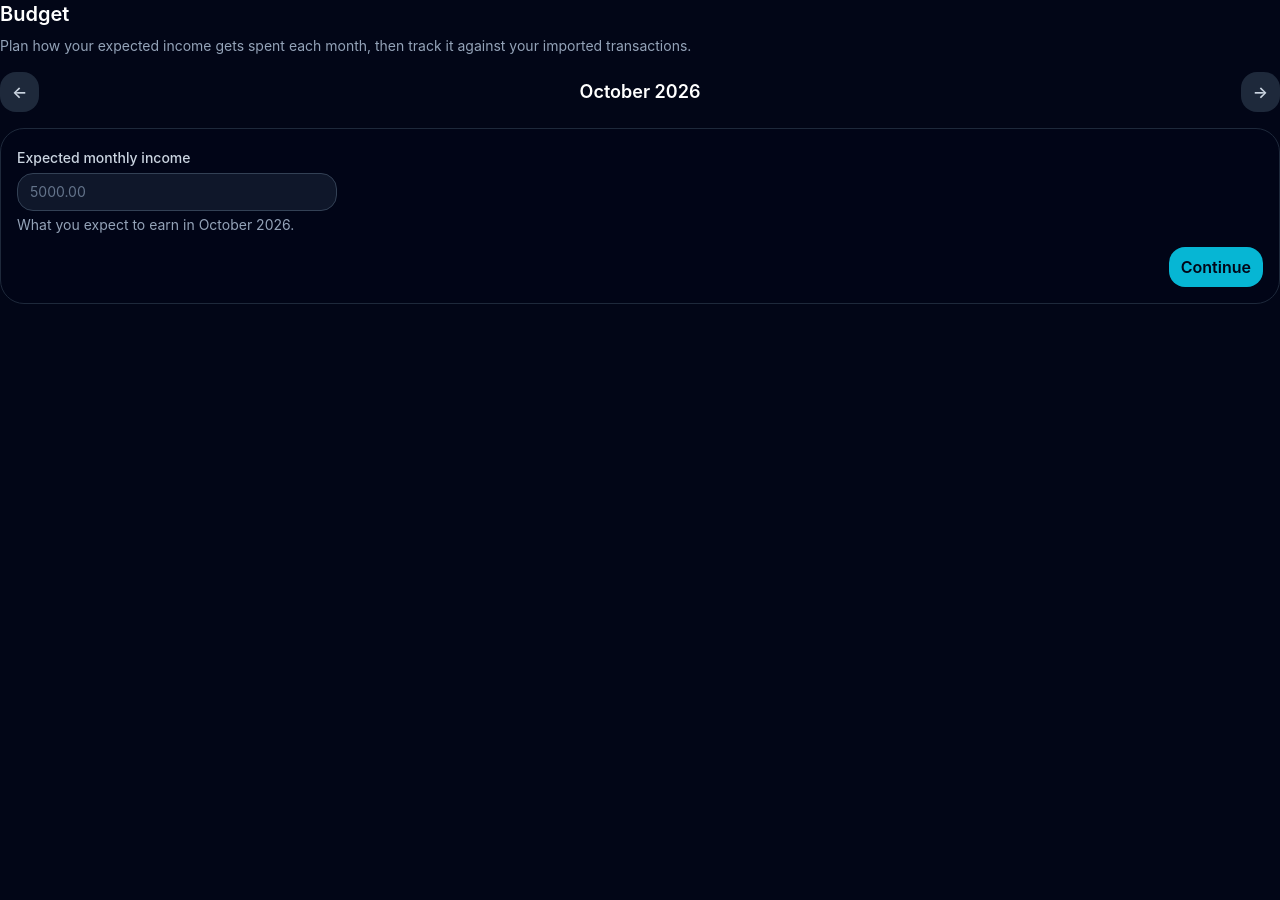
Scenario: BudgetTab › blocks saving an invalid typed amount
In the field labelled "Expected monthly income": x=177, y=192 top-left (17, 173), bottom-right (337, 211), type "5000"
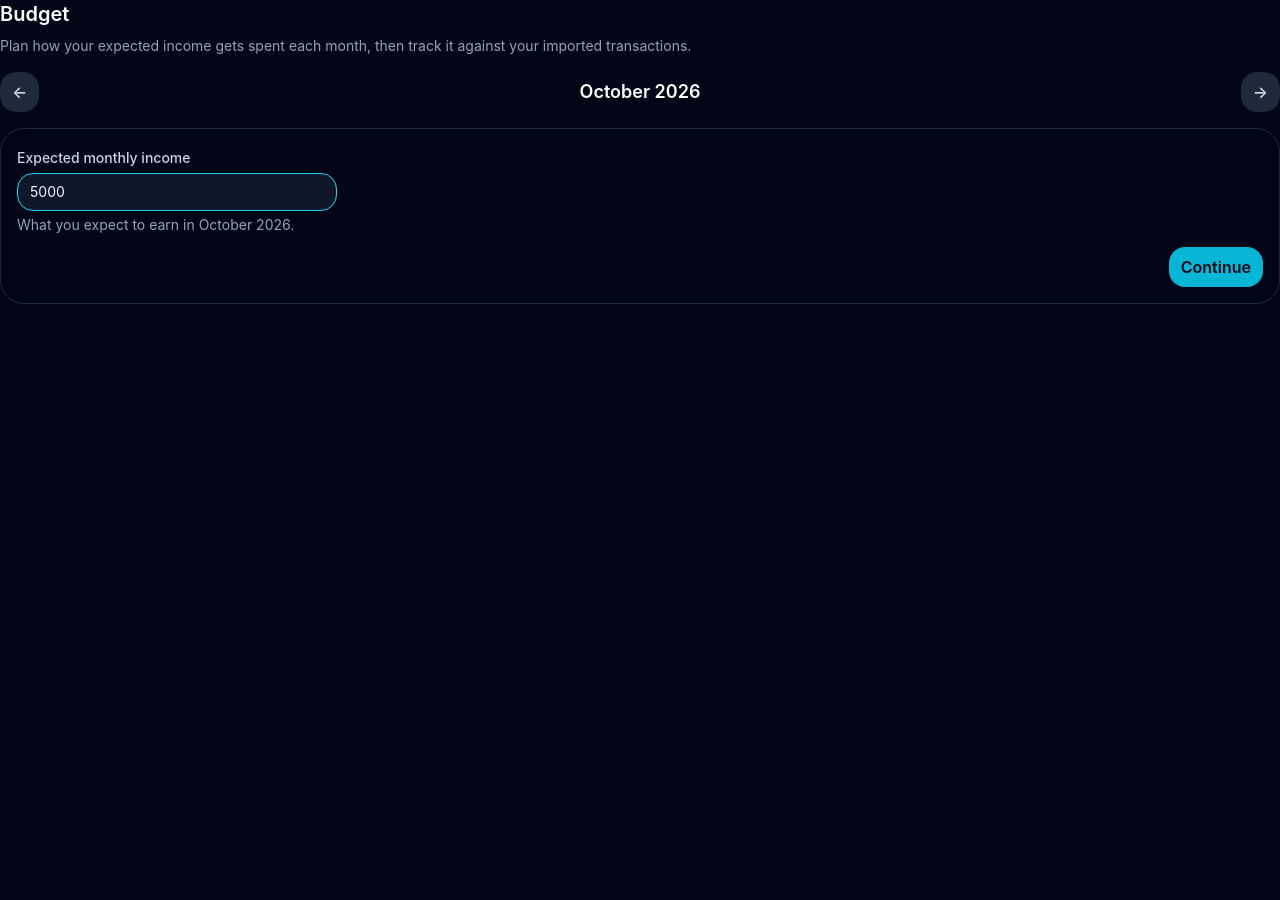
Click the button "Continue": x=1216, y=267 top-left (1169, 247), bottom-right (1263, 287)
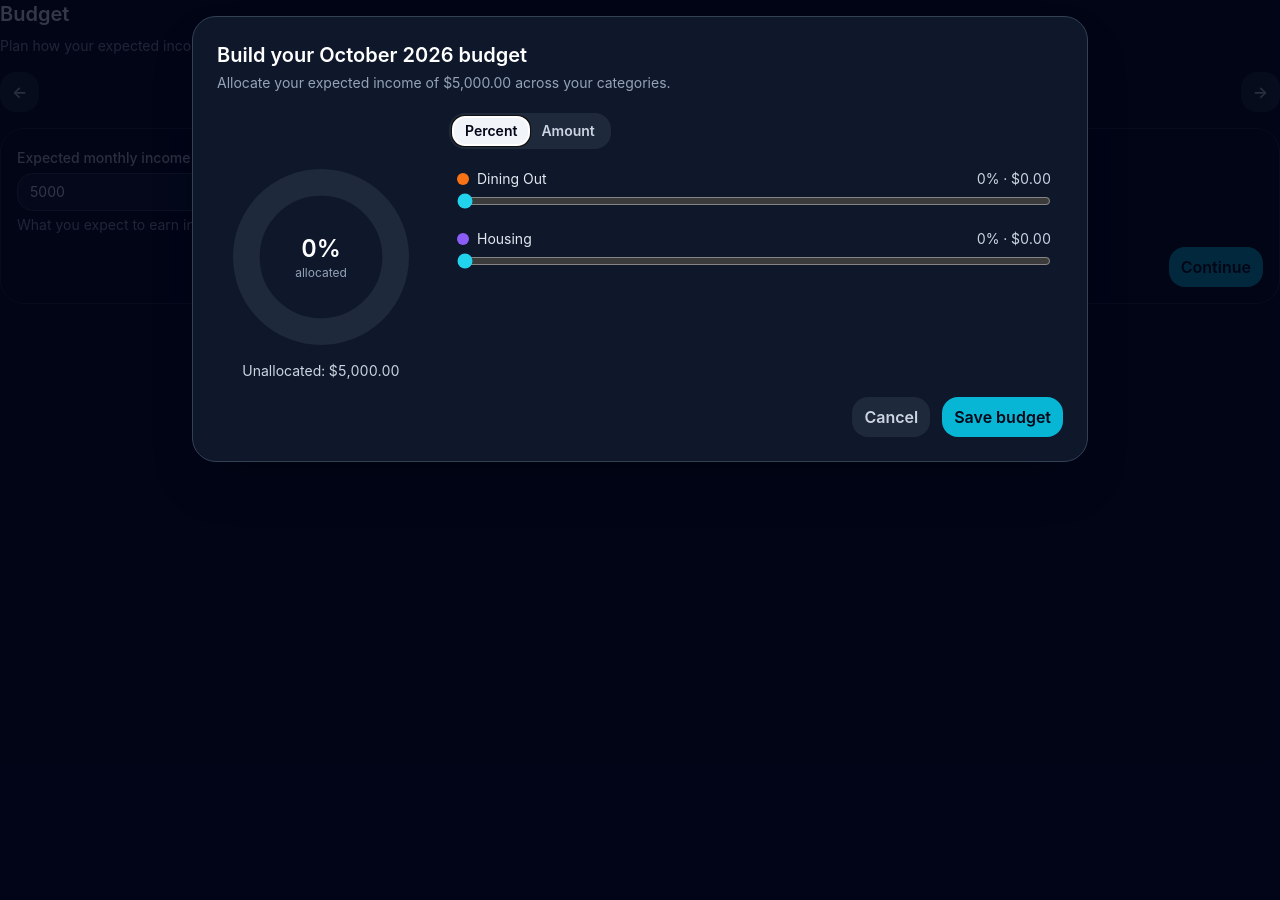
Click the button "Amount": x=568, y=131 top-left (529, 117), bottom-right (607, 145)
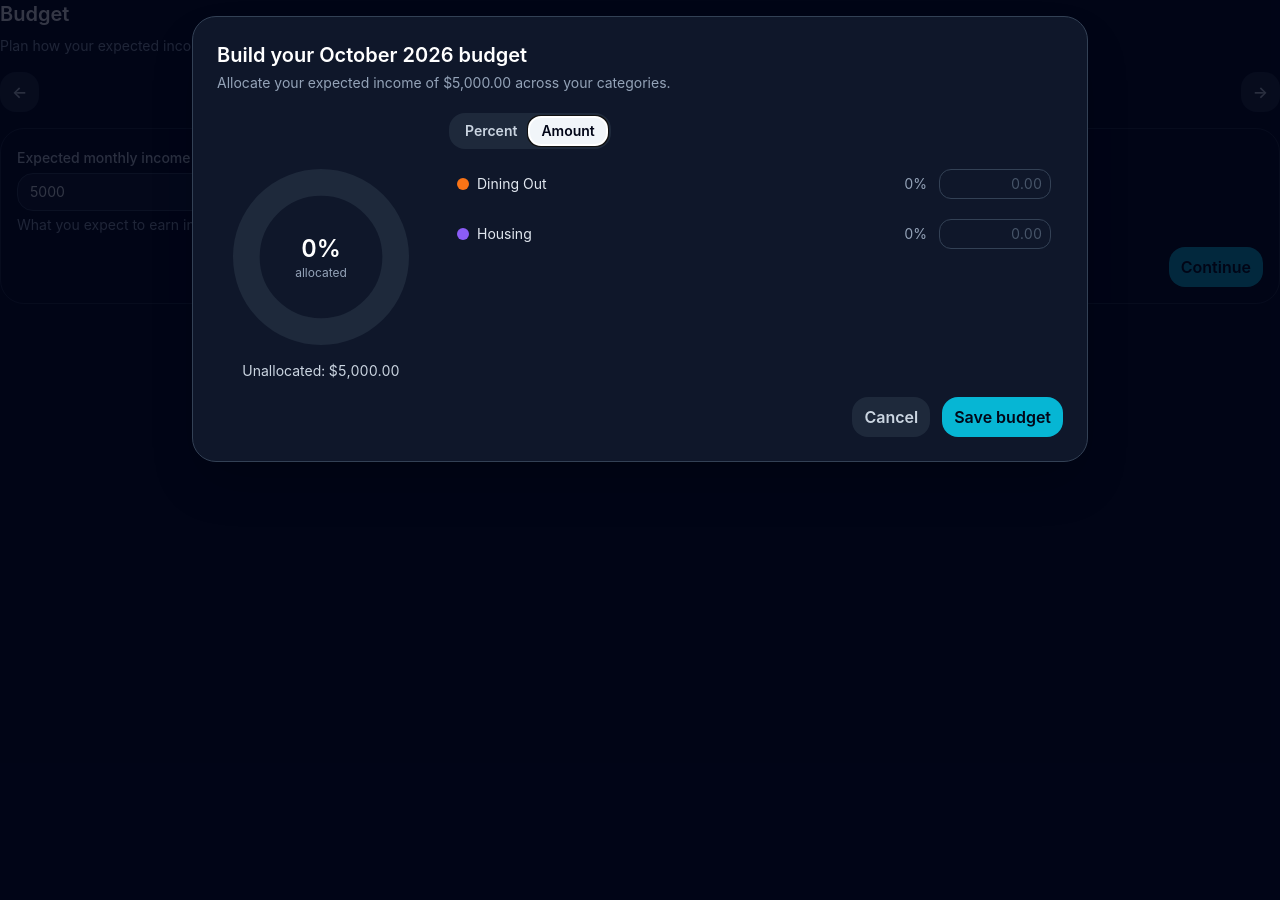
In the field named "Housing amount": x=995, y=234 top-left (939, 219), bottom-right (1051, 249), type "abc"
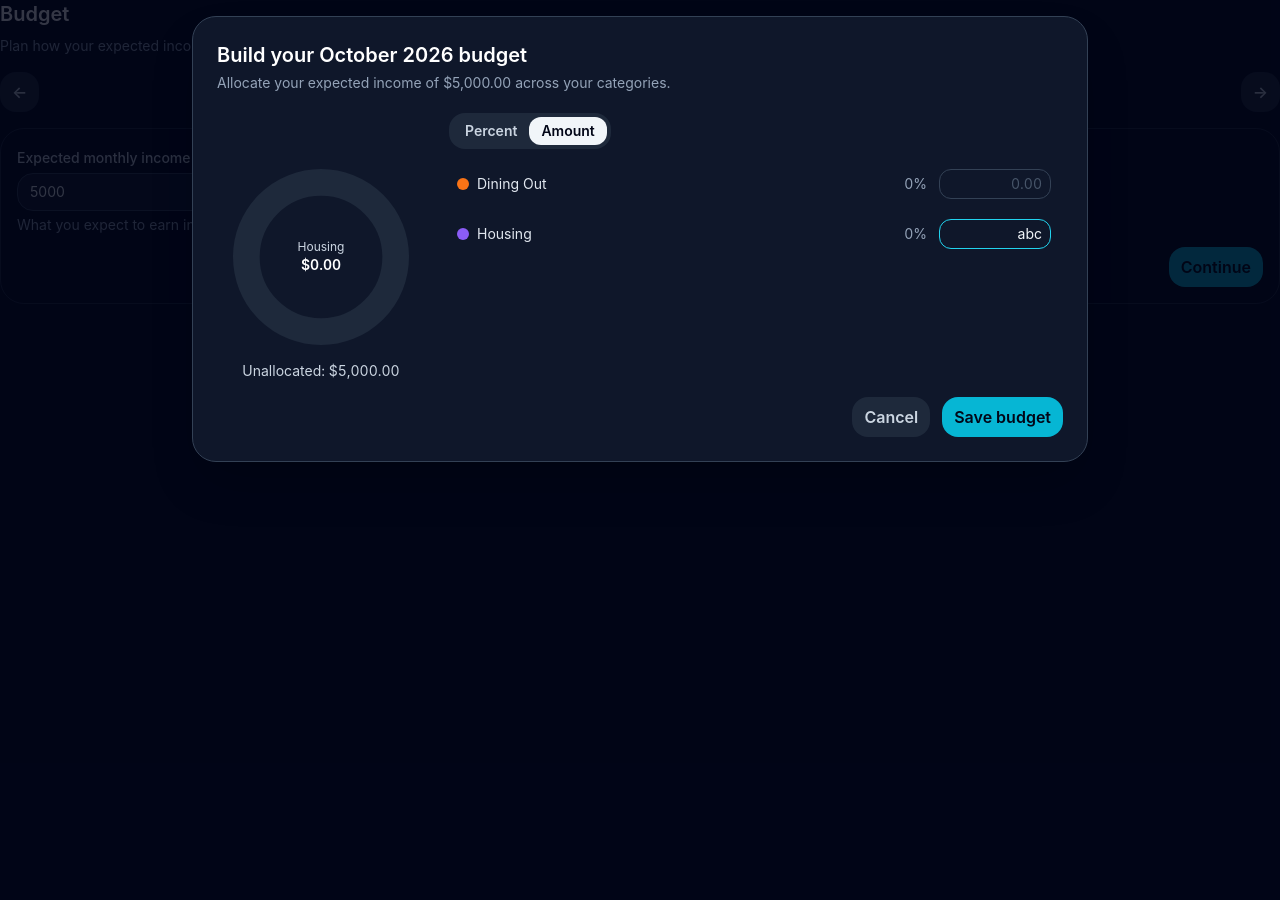
Click the button "Save budget": x=1003, y=417 top-left (942, 397), bottom-right (1063, 437)
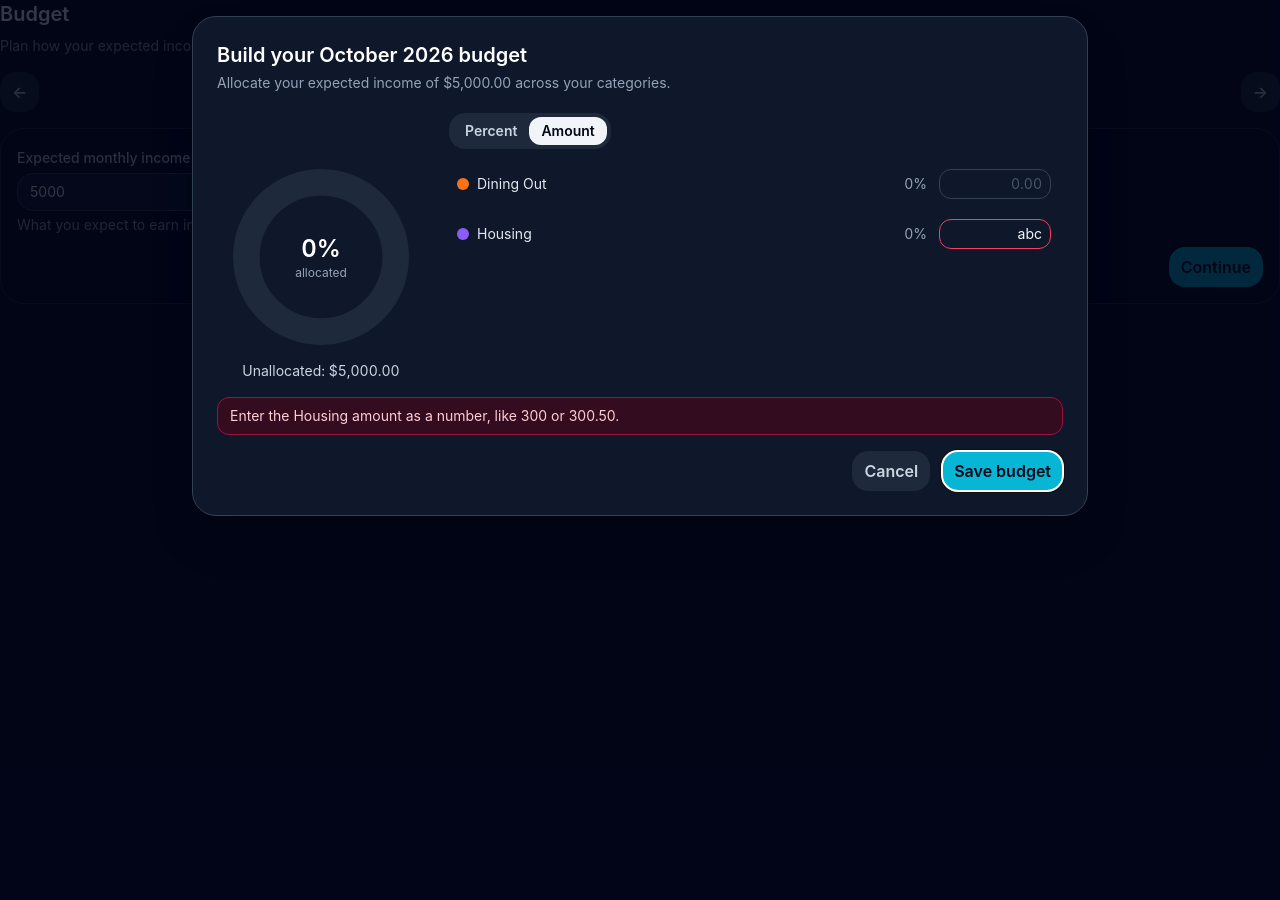
Expected: the message shows "Housing amount", top-left (230, 407), bottom-right (619, 424)
